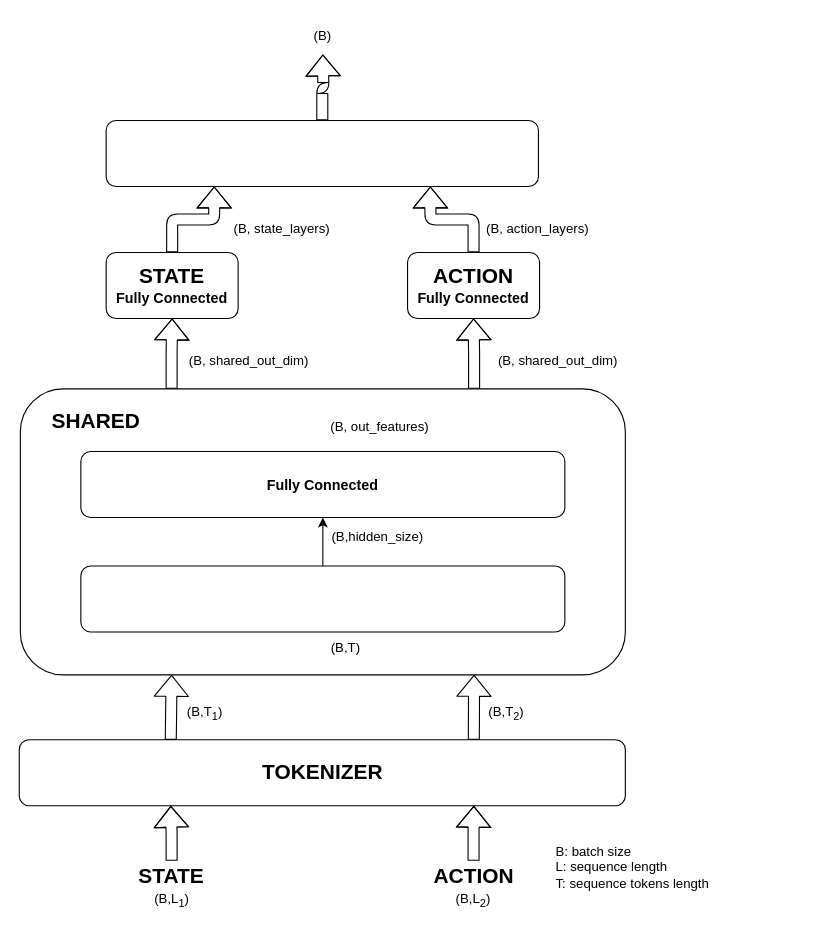
This 816x935 diagram has some shape labels left out. Here are the shapes that lost their labels. From the top down, the centre of each, then its label:
At point 321,152: "OUTPUT Fully Connected".
At point 322,598: "BERT (Embeddings + Encoder + Pooler)".
